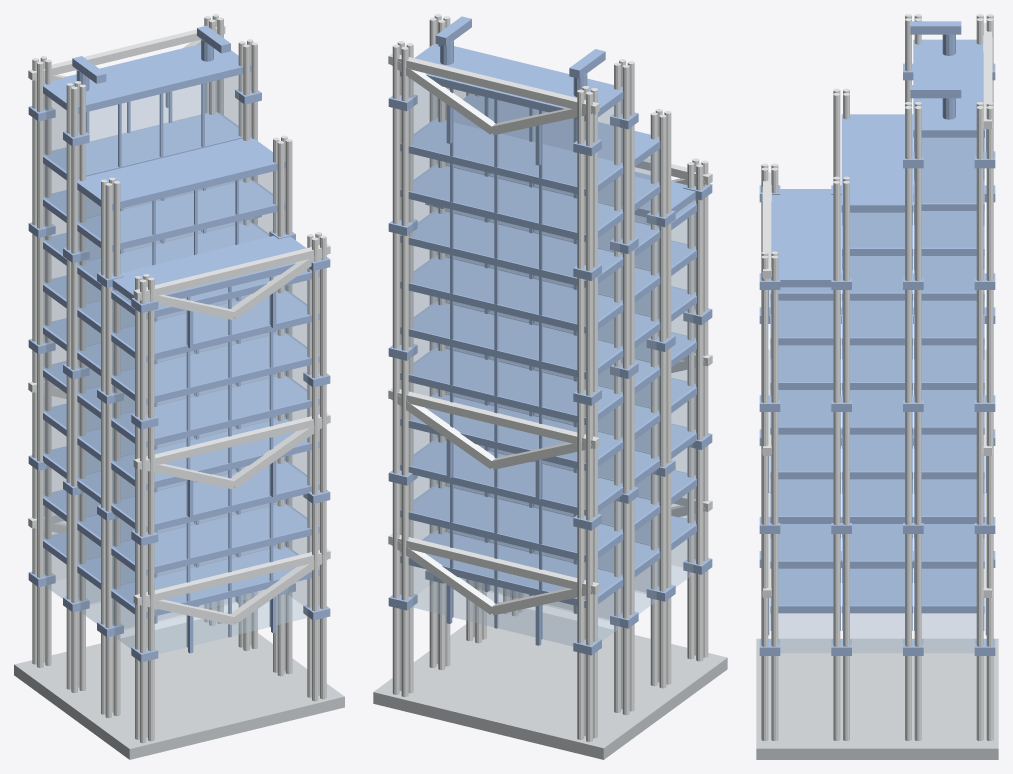
File: hsbc-main.glb
The picture shows the model from 3 angles, left to right: view 1: azimuth 30°, elevation 25°; view 2: azimuth 150°, elevation 25°; view 3: azimuth 270°, elevation 25°; orthographic projection. The views are drawn at different scales.
Visible parts, largest first — view 1: HSBC suspended glass section 0, HSBC public plaza, HSBC suspended glass section 2, HSBC suspended glass section 1, HSBC recessed roof terrace.001, HSBC suspended floor edge.005, HSBC suspended floor edge.016, HSBC suspended floor edge.001, HSBC suspended floor edge.004, HSBC recessed roof terrace.002, HSBC suspended floor edge.002, HSBC suspended floor edge.006 (+61 smaller); view 2: HSBC suspended glass section 2, HSBC public plaza, HSBC suspended glass section 1, HSBC suspended glass section 0, HSBC suspended floor edge.023, HSBC suspended floor edge.022, HSBC suspended floor edge.025, HSBC suspended floor edge.018, HSBC suspended floor edge.021, HSBC suspended floor edge.024, HSBC suspended floor edge.026, HSBC suspended floor edge.019 (+57 smaller); view 3: HSBC public plaza, HSBC suspended glass section 2, HSBC suspended glass section 1, HSBC suspended glass section 0, HSBC recessed roof terrace.001, HSBC recessed roof terrace, HSBC recessed roof terrace.002, HSBC vertical mast bundle.021, HSBC vertical mast bundle.030, HSBC vertical mast bundle.029, HSBC suspended floor edge.026, HSBC vertical mast bundle.014 (+36 smaller).
Part boxes in pixels (x1,y1,x2,y2): HSBC suspended glass section 0: [112, 268, 310, 653]; HSBC public plaza: [14, 612, 344, 759]; HSBC suspended glass section 2: [44, 74, 242, 603]; HSBC suspended glass section 1: [78, 171, 276, 628]; HSBC recessed roof terrace.001: [77, 136, 285, 210]; HSBC suspended floor edge.005: [111, 331, 319, 404]; HSBC suspended floor edge.016: [77, 178, 285, 251]; HSBC suspended floor edge.001: [111, 502, 319, 575]; HSBC suspended floor edge.004: [111, 374, 319, 447]; HSBC recessed roof terrace.002: [43, 44, 251, 113]; HSBC suspended floor edge.002: [111, 460, 319, 531]; HSBC suspended floor edge.006: [111, 289, 319, 362]; HSBC suspended glass section 2: [409, 79, 622, 646]; HSBC public plaza: [373, 602, 727, 759]; HSBC suspended glass section 1: [461, 150, 658, 619]; HSBC suspended glass section 0: [635, 199, 695, 592]; HSBC suspended floor edge.023: [400, 255, 623, 333]; HSBC suspended floor edge.022: [400, 301, 623, 379]; HSBC suspended floor edge.025: [400, 163, 623, 241]; HSBC suspended floor edge.018: [400, 484, 623, 562]; HSBC suspended floor edge.021: [400, 346, 623, 424]; HSBC suspended floor edge.024: [400, 209, 623, 287]; HSBC suspended floor edge.026: [400, 117, 623, 196]; HSBC suspended floor edge.019: [400, 438, 623, 515]; HSBC public plaza: [756, 638, 998, 759]; HSBC suspended glass section 2: [922, 138, 976, 652]; HSBC suspended glass section 1: [850, 213, 904, 652]; HSBC suspended glass section 0: [778, 287, 832, 652]; HSBC recessed roof terrace.001: [841, 114, 913, 212]; HSBC recessed roof terrace: [771, 189, 841, 287]; HSBC recessed roof terrace.002: [913, 39, 984, 137]; HSBC vertical mast bundle.021: [914, 106, 921, 740]; HSBC vertical mast bundle.030: [976, 106, 983, 740]; HSBC vertical mast bundle.029: [986, 106, 993, 740]; HSBC suspended floor edge.026: [913, 137, 984, 210]; HSBC vertical mast bundle.014: [833, 181, 840, 740].
Size of the model in its own units: 2.9 by 7.99 by 2.7.
